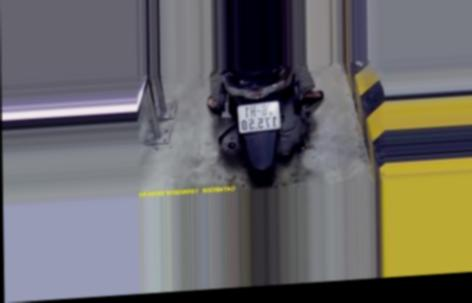License_Plate: (238, 97, 282, 138)
